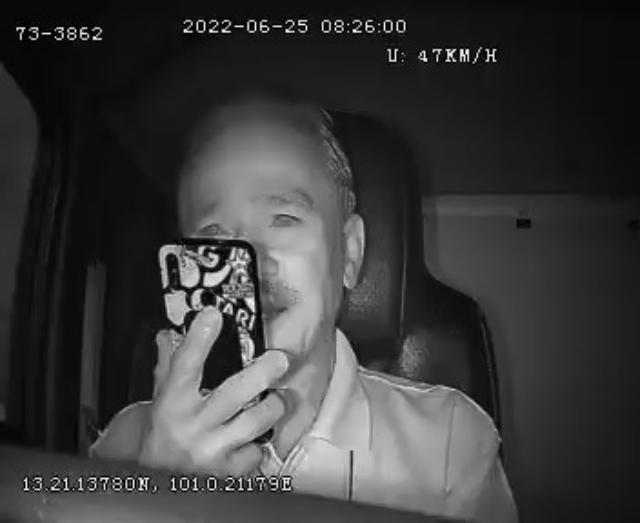PhoneUse: (152, 237, 274, 426)
SafeDriving: (262, 196, 310, 234)
